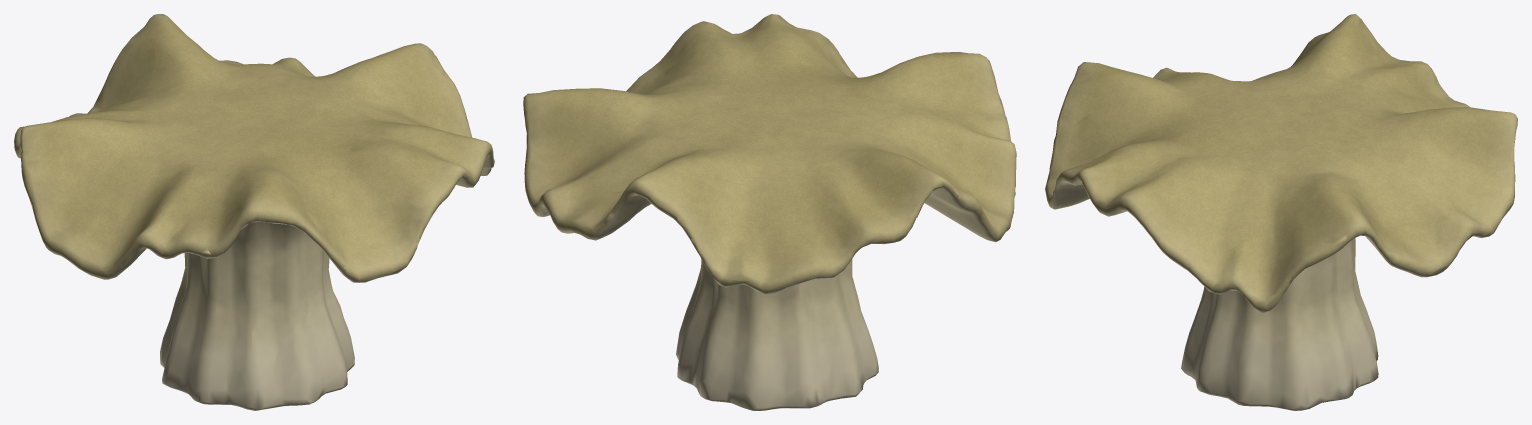
File: Coral_Soft.gltf
3 renders of one model, left to right at view 1: azimuth 30°, elevation 25°; view 2: azimuth 150°, elevation 25°; view 3: azimuth 270°, elevation 25°, orthographic. The views are drawn at different scales.
Visible parts, largest first — view 1: Coral_Soft; view 2: Coral_Soft; view 3: Coral_Soft.
Part boxes in pixels (x1=…): Coral_Soft: x1=14, y1=14, x2=494, y2=410; Coral_Soft: x1=523, y1=14, x2=1016, y2=410; Coral_Soft: x1=1045, y1=14, x2=1517, y2=410.
Bounding box in the file's own units: 0.6985 × 0.4169 × 0.6685.
1 material, 1 textured.
